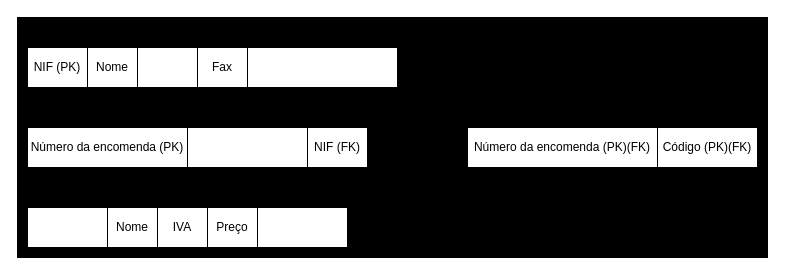
Image size: 785x275. Some labels were removed from this diagram. Here are the shapes that lost their labels. From the top down, the centre of each, then its label:
At point 167,67: "Endereço".
At point 322,67: "Condições de pagamento".
At point 247,147: "Data de realização".
At point 67,227: "Código (PK)".
At point 302,227: "Qtd em stock".
